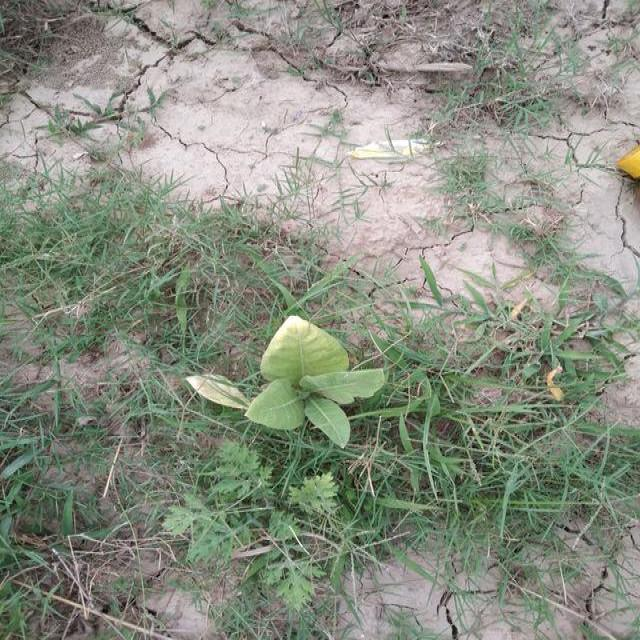crop: (193, 318, 400, 449)
